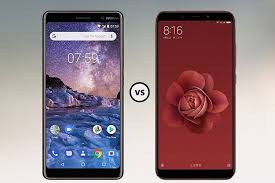nokia: (39, 6, 127, 180), (151, 7, 239, 181)
